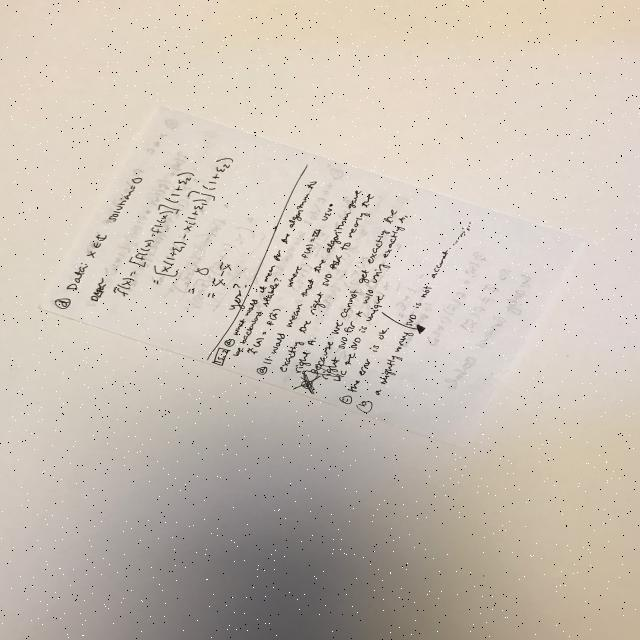paper: (38, 104, 586, 449)
